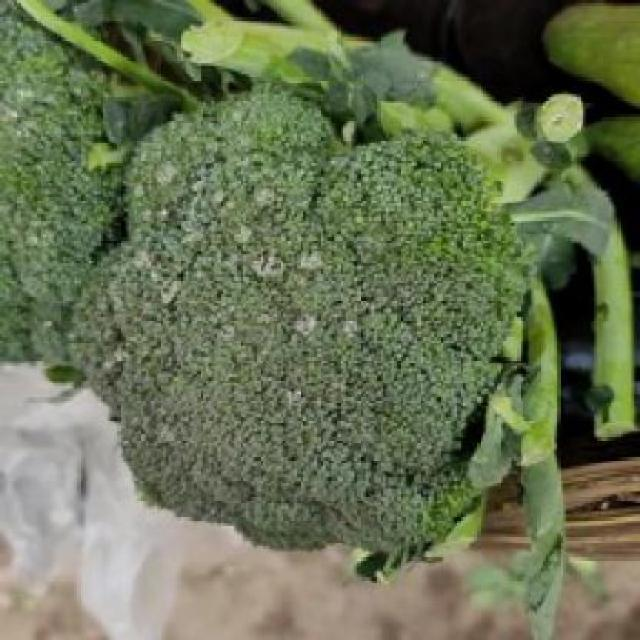broccoli: (92, 77, 592, 537), (0, 3, 137, 363)
